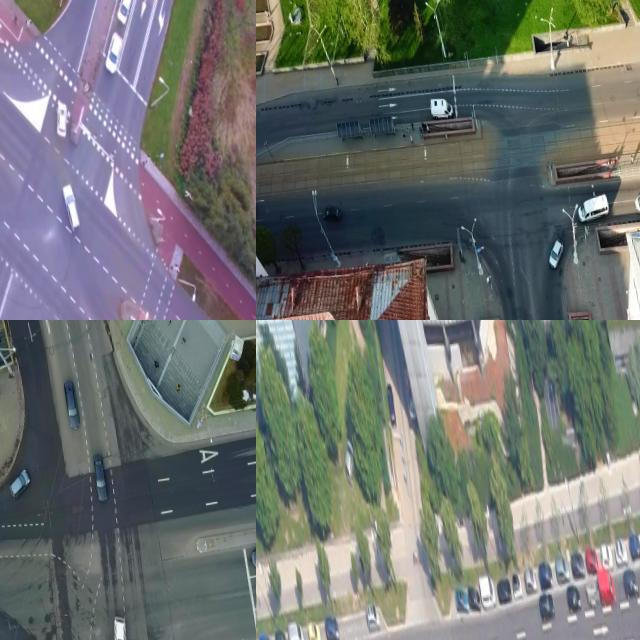UAI: (101, 30, 129, 75), (62, 182, 84, 233), (63, 380, 82, 431), (6, 468, 34, 502), (341, 436, 360, 486), (91, 454, 110, 503), (52, 99, 72, 140), (598, 569, 617, 606), (546, 238, 567, 271), (108, 613, 132, 640), (479, 575, 497, 609), (538, 590, 557, 622), (537, 558, 555, 590), (114, 0, 135, 25), (623, 568, 640, 598), (584, 544, 600, 575), (566, 583, 582, 613), (555, 554, 571, 584), (570, 550, 586, 580), (386, 384, 397, 427), (366, 602, 381, 632), (324, 613, 340, 640), (497, 577, 513, 604), (322, 204, 343, 224), (600, 540, 614, 570), (614, 537, 629, 565), (454, 586, 469, 613), (288, 620, 307, 640), (628, 531, 640, 561), (586, 581, 599, 608), (468, 585, 481, 612), (512, 571, 524, 600), (307, 617, 322, 640), (524, 569, 538, 593), (274, 628, 289, 640), (249, 543, 256, 568), (259, 633, 274, 640)
harvester: (576, 194, 611, 224), (430, 96, 455, 121), (633, 186, 640, 215)
